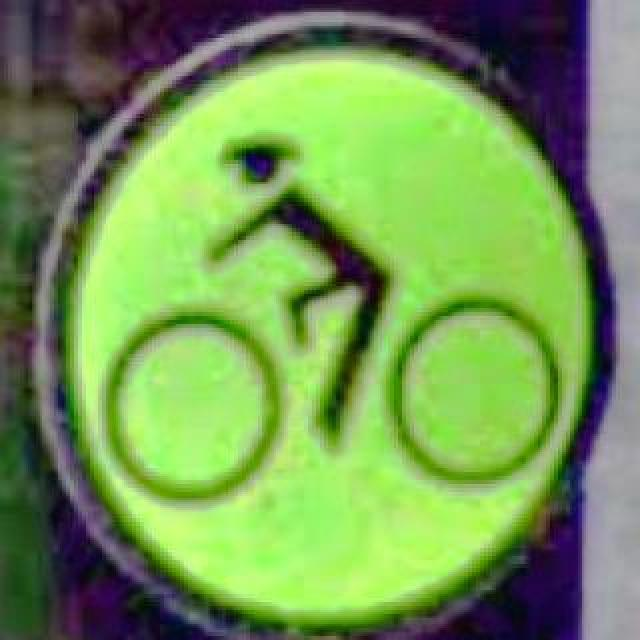bike lane: (42, 16, 612, 626)
